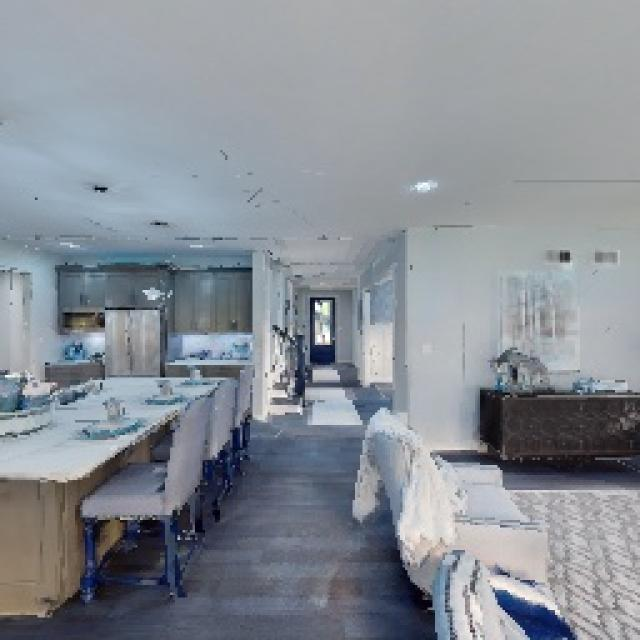chair: (76, 379, 217, 609)
sofa: (362, 383, 550, 611)
